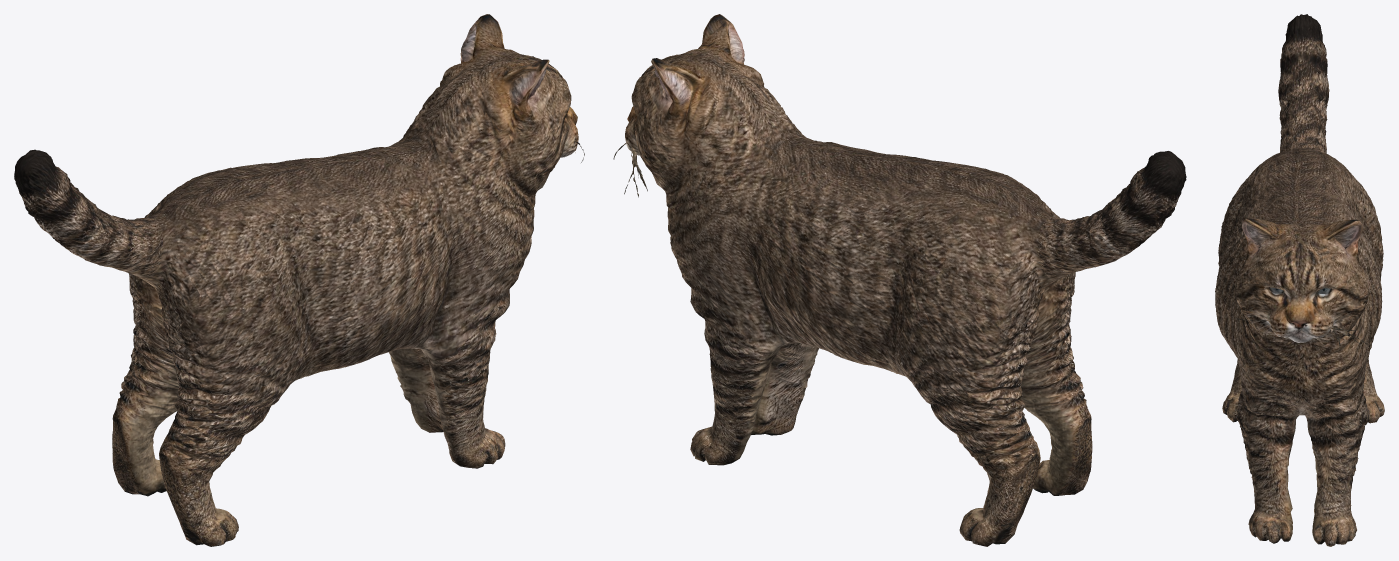
File: MRBCHONK.glb
3 views of the same model, side by side, from view 1: azimuth 30°, elevation 25°; view 2: azimuth 150°, elevation 25°; view 3: azimuth 270°, elevation 25° (orthographic). The views are drawn at different scales.
Visible parts, largest first — view 1: tripo_node_809ce658-2838-48d9-9d85-80120ff156c4; view 2: tripo_node_809ce658-2838-48d9-9d85-80120ff156c4; view 3: tripo_node_809ce658-2838-48d9-9d85-80120ff156c4.
Boxes of the visible parts, left/top/right/bottom form: tripo_node_809ce658-2838-48d9-9d85-80120ff156c4: left=14, top=14, right=584, bottom=546; tripo_node_809ce658-2838-48d9-9d85-80120ff156c4: left=613, top=14, right=1186, bottom=546; tripo_node_809ce658-2838-48d9-9d85-80120ff156c4: left=1215, top=14, right=1384, bottom=546.
Size of the model in its own units: 1.47 by 0.9991 by 0.4498.
Materials: 1 (1 with a texture image).
